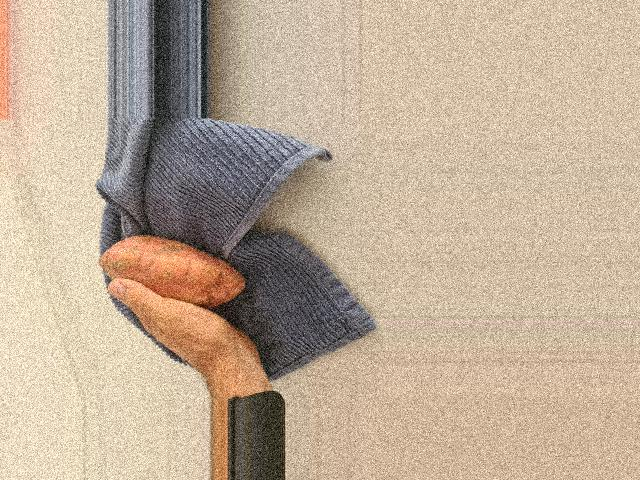sweet_potato: (94, 233, 245, 312)
